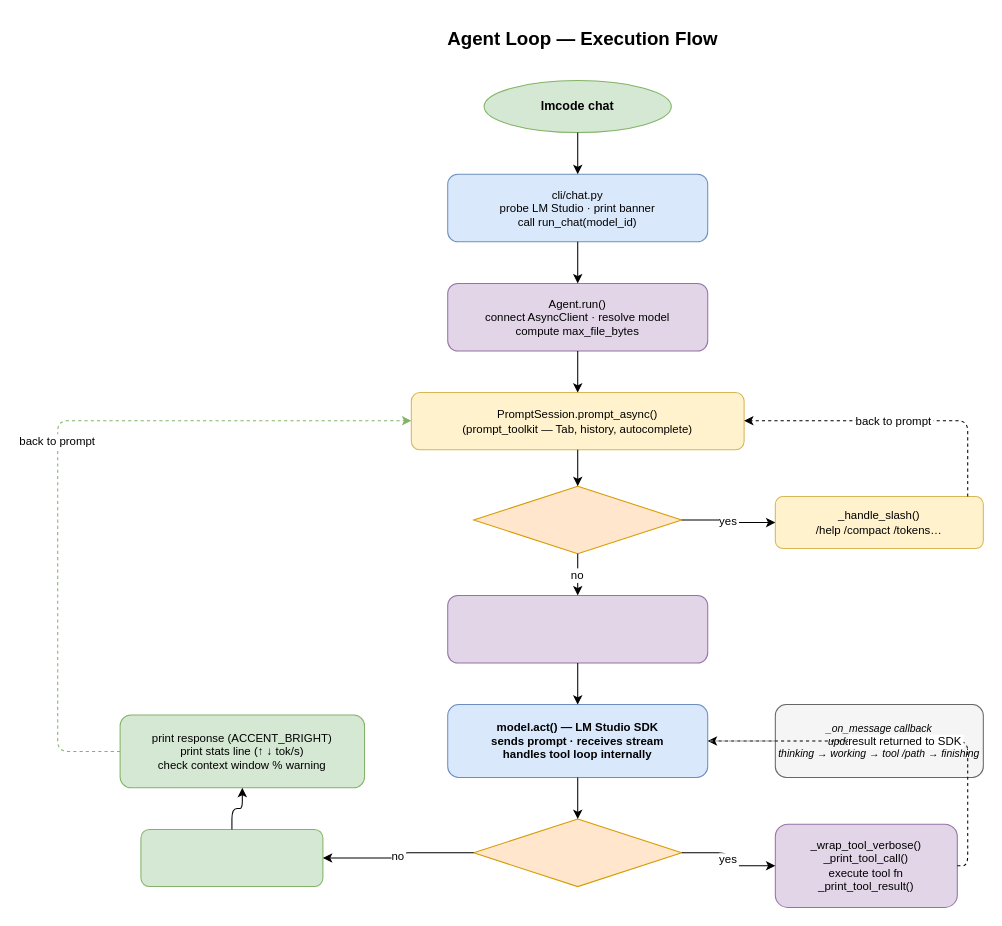
The diagram is 1002 pixels wide and 926 high, and some of its shapes have lost their labels. The shapes that lost their labels are listed below. From the top down, each one's centre as x and y in pixels, then its label:
At pixel 577 519: "slash command?".
At pixel 577 628: "Agent._run_turn() add user message · wrap tools start keepalive spinner task".
At pixel 231 857: "final response text (no more tool calls)".
At pixel 577 852: "tool call in response?".
